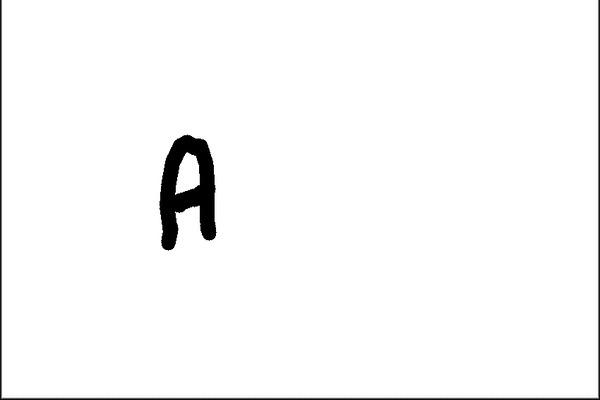A: (137, 131, 223, 251)
